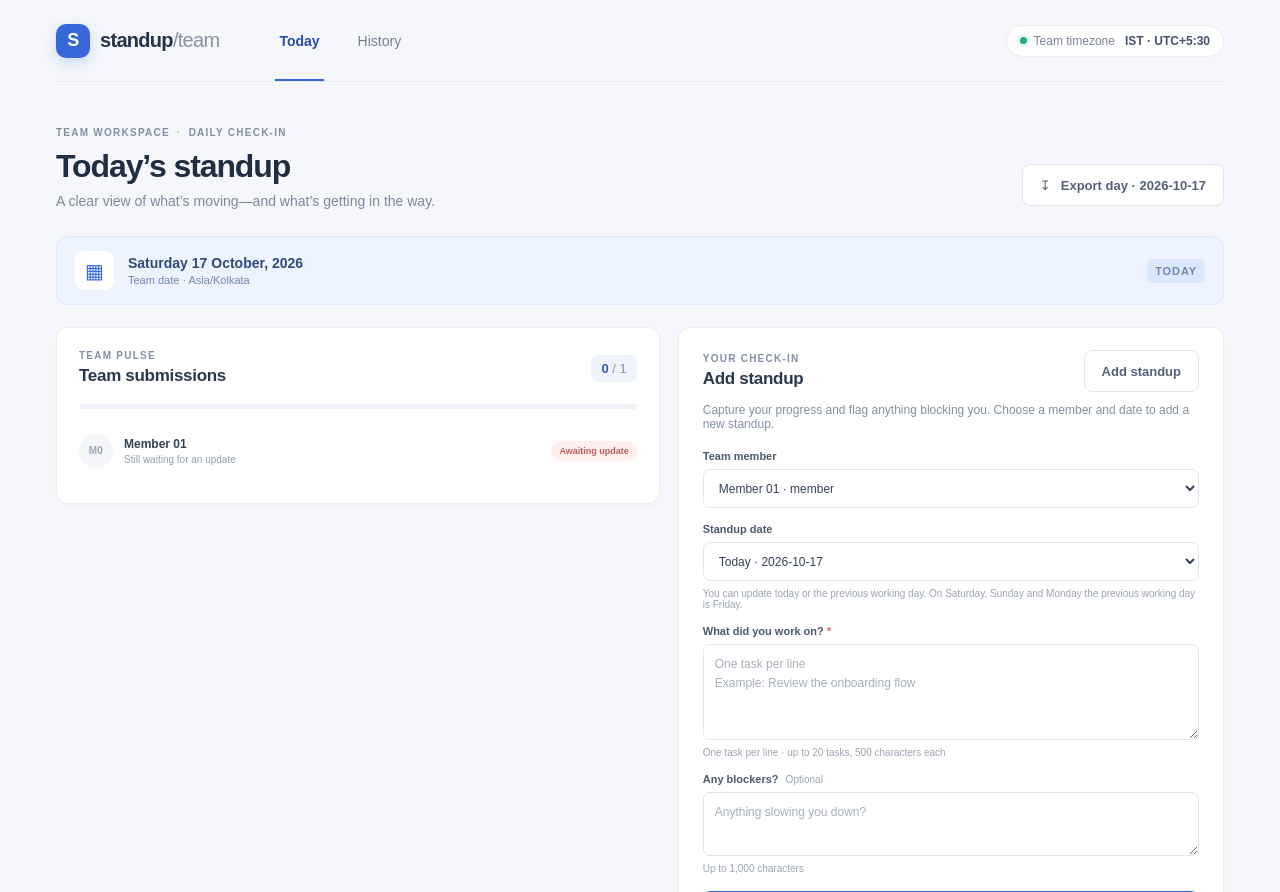
standup UI › requires an explicit Edit action for an existing member and date
Check: the heading "Add standup" is shown, box [703,369,803,389]
Select "Previous working day · 2026-10-16" in the dropdown labelled "Standup date" at (951, 562), box [703,542,1199,581]
(page scrolled)
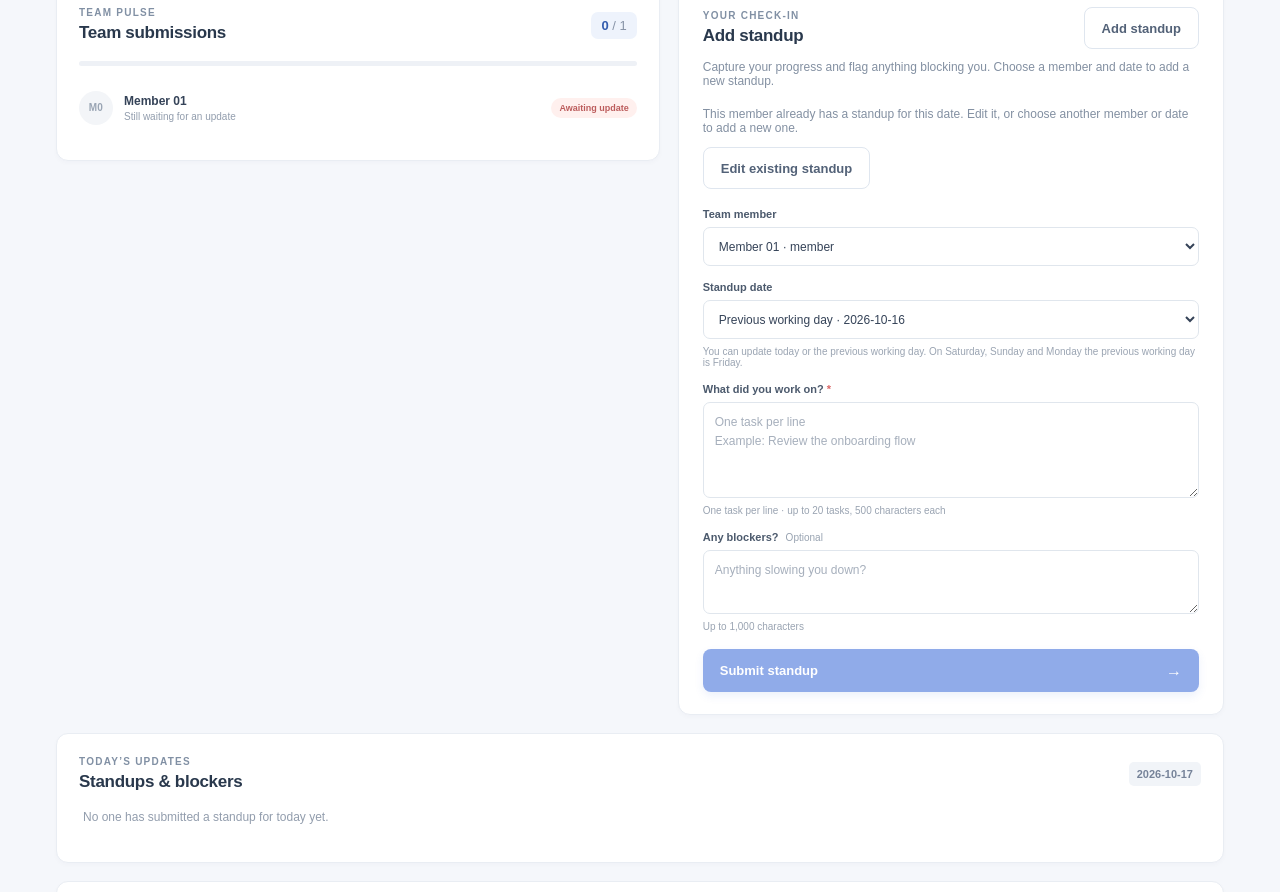
Check: the heading "Add standup" is shown, box [703,26,803,46]
Check: the button "Submit standup →" is disabled, box [703,649,1199,692]
Submit the form named "Submit standup", box [703,208,1199,692]
Click the button "Edit existing standup".
click(787, 168)  # box [703,147,870,189]
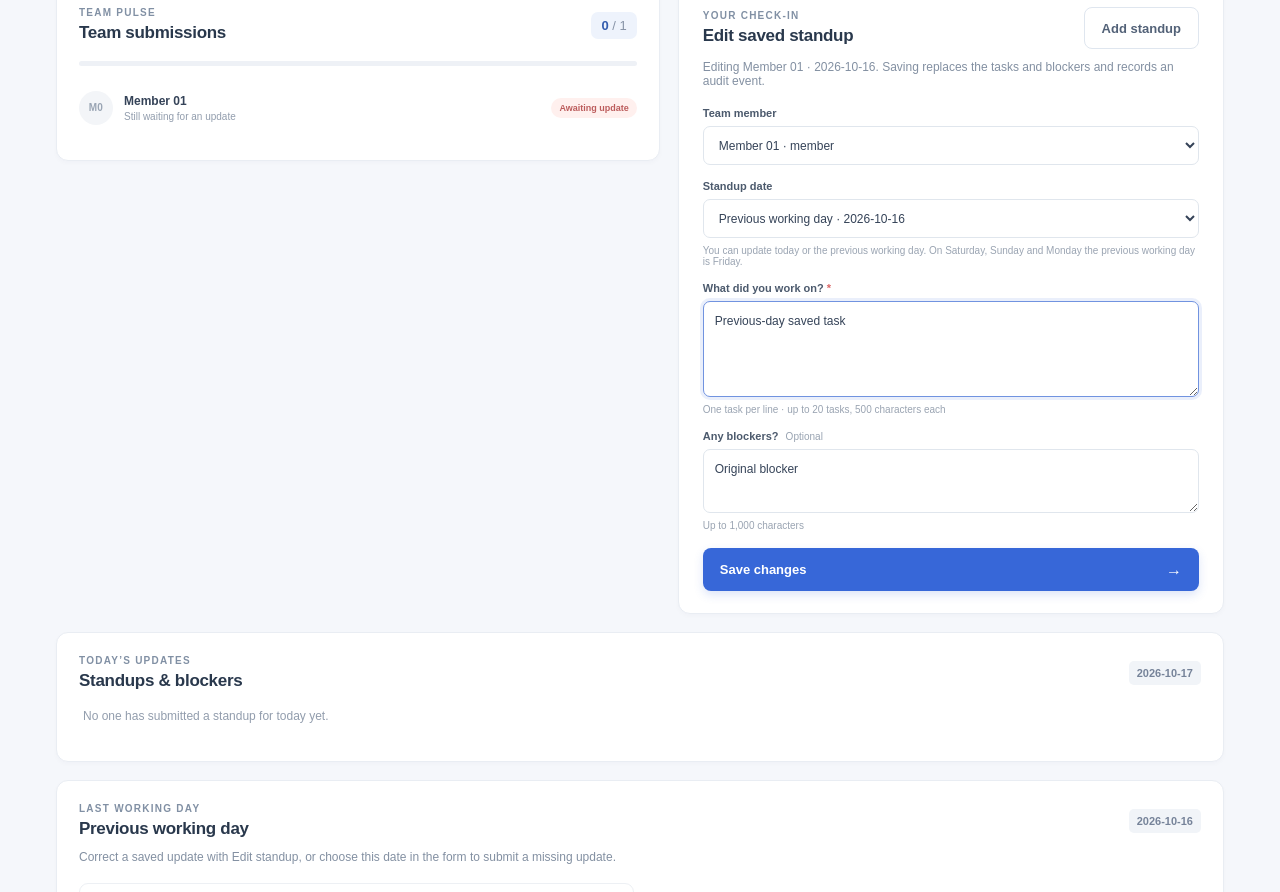
Check: the heading "Edit saved standup" is shown, box [703,26,853,46]
Check: the text box labelled "What did you work on? *" holds "Previous-day saved task", box [703,301,1199,397]
